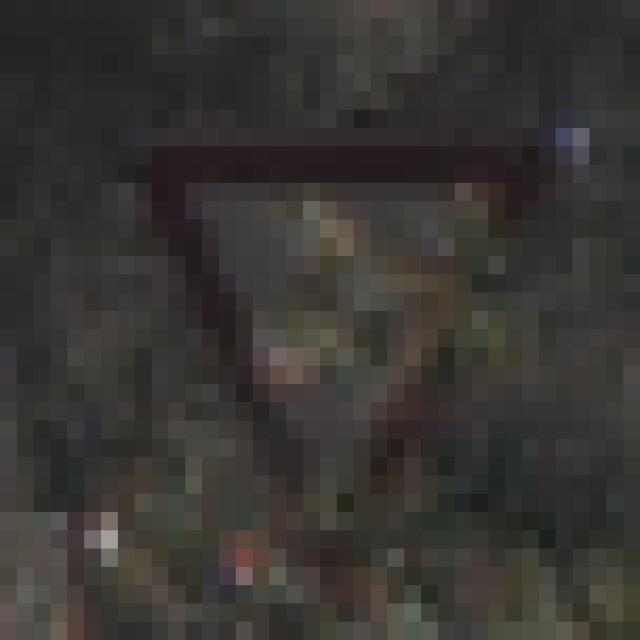Give Way: (85, 93, 557, 532)
